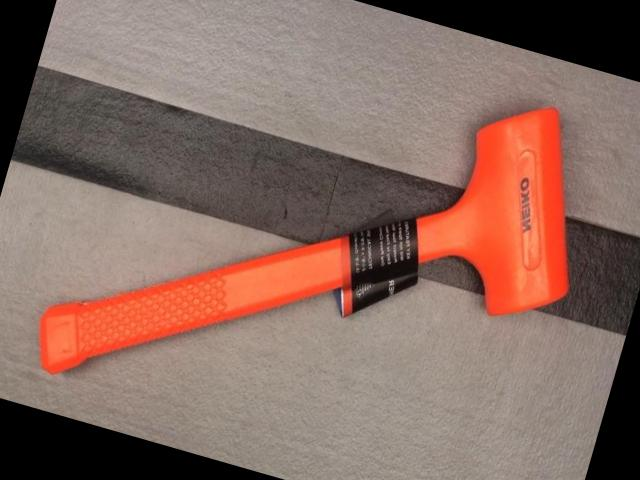hammer: (23, 0, 613, 480)
